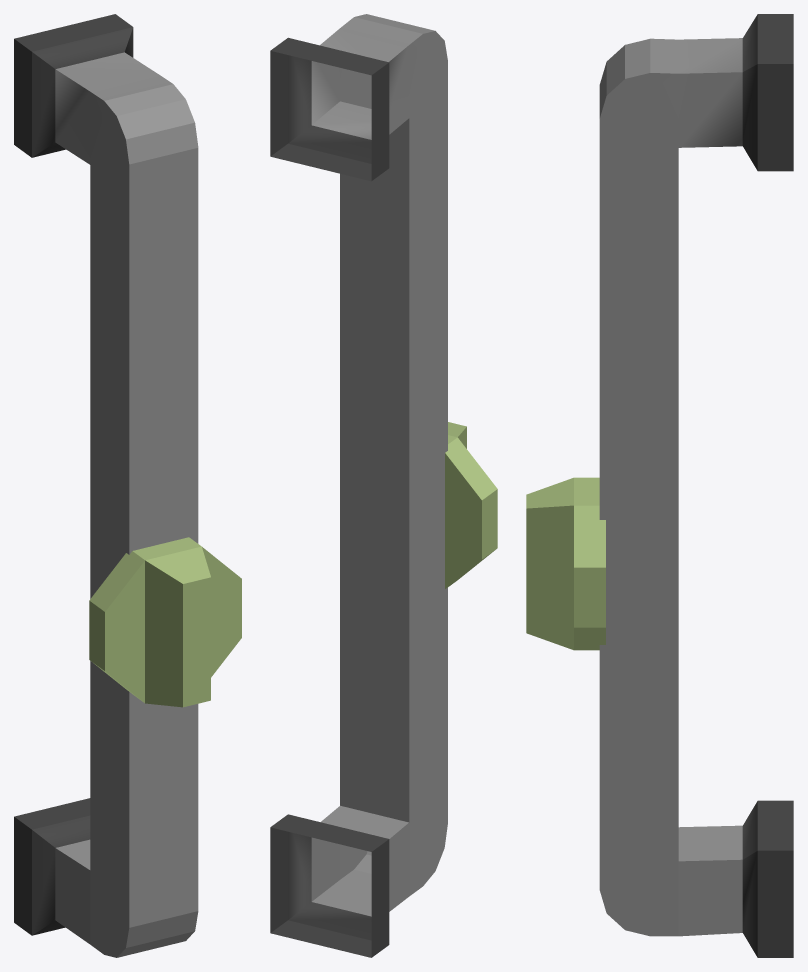
File: House_Gas_Valve.fbx
The picture shows the model from 3 angles, left to right: view 1: azimuth 30°, elevation 25°; view 2: azimuth 150°, elevation 25°; view 3: azimuth 270°, elevation 25°; orthographic projection.
Parts seen in each view (by area): view 1: stove01_3.003, stove01_3.004; view 2: stove01_3.003, stove01_3.004; view 3: stove01_3.003, stove01_3.004.
Part boxes in pixels (left/top/right/bottom): stove01_3.003: left=14, top=14, right=198, bottom=957; stove01_3.004: left=89, top=537, right=241, bottom=707; stove01_3.003: left=270, top=14, right=447, bottom=957; stove01_3.004: left=445, top=422, right=497, bottom=588; stove01_3.003: left=599, top=14, right=793, bottom=957; stove01_3.004: left=526, top=477, right=605, bottom=650.
Size of the model in its own units: 5.01 by 30.93 by 8.39.
